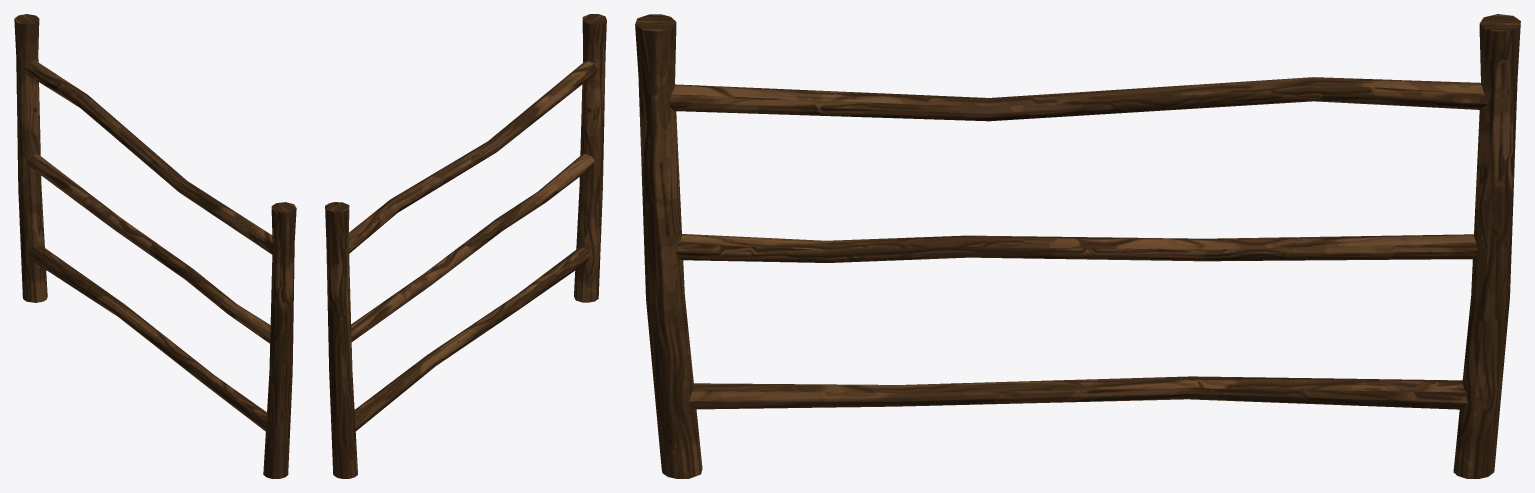
Rendered from e_fence_whole.fbx.
3 views of the same model, side by side, from view 1: azimuth 30°, elevation 25°; view 2: azimuth 150°, elevation 25°; view 3: azimuth 270°, elevation 25° (orthographic). The views are drawn at different scales.
Parts seen in each view (by area): view 1: Fence_Whole; view 2: Fence_Whole; view 3: Fence_Whole.
Boxes of the visible parts, box(x1,y1,x2,y2) form: Fence_Whole: box(14, 14, 296, 478); Fence_Whole: box(325, 14, 606, 478); Fence_Whole: box(635, 14, 1520, 478).
Size of the model in its own units: 20.28 by 240 by 430.
Materials: 1 (1 with a texture image).
